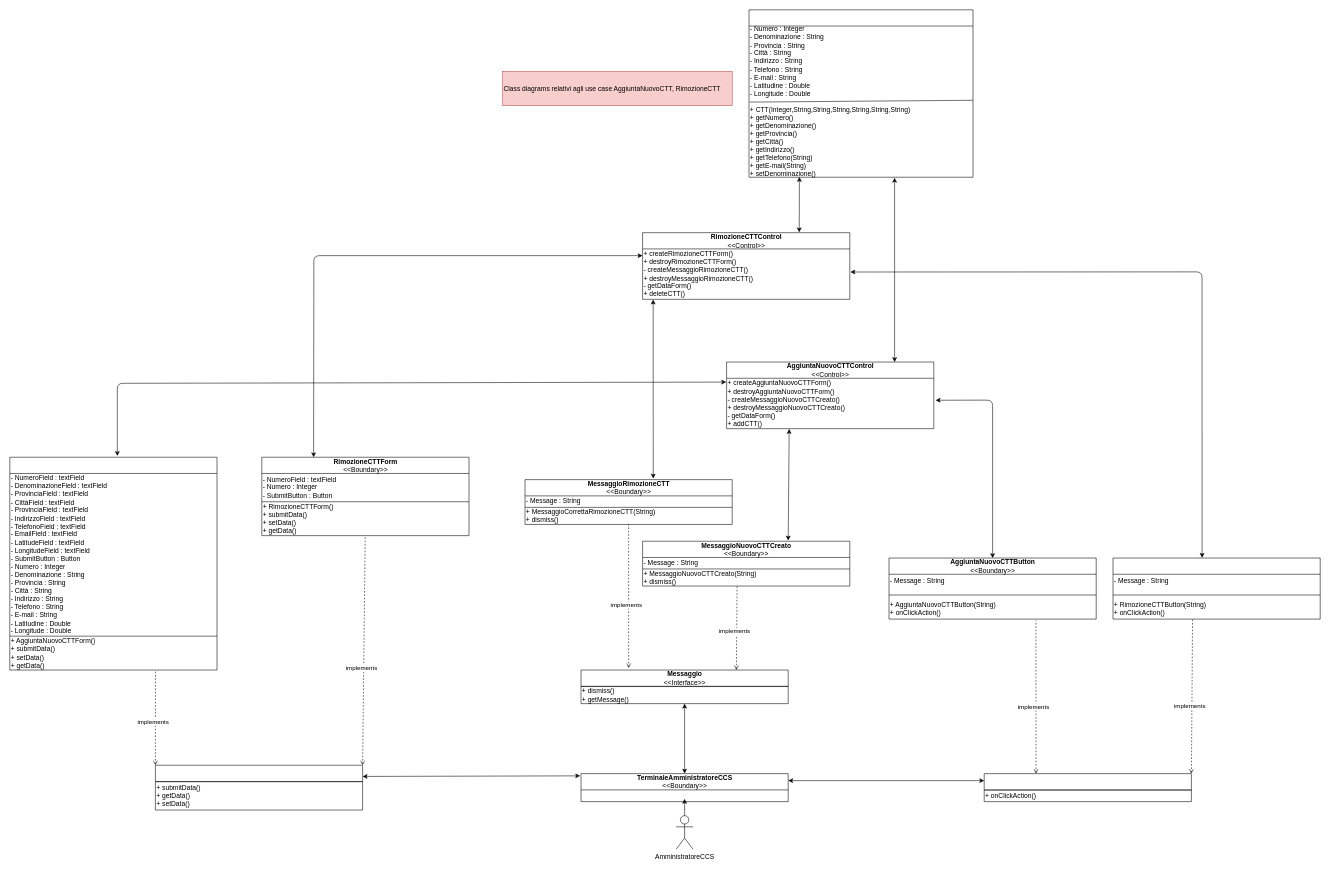
Image size: 1331x871. Some labels were removed from this diagram. The shapes that lost their labels are listed below. From the top down, each one's box as (x1, y1, x2, y2) in pixels, then its label:
(748, 9, 973, 177): CTT <<Entity>>
(9, 457, 217, 670): AggiuntaNuovoCTTForm <<Boundary>>
(1112, 557, 1320, 619): RimozioneCTTButton <<Boundary>>
(155, 765, 363, 810): Form <<Interface>>
(984, 773, 1191, 802): Button <<Interface>>
